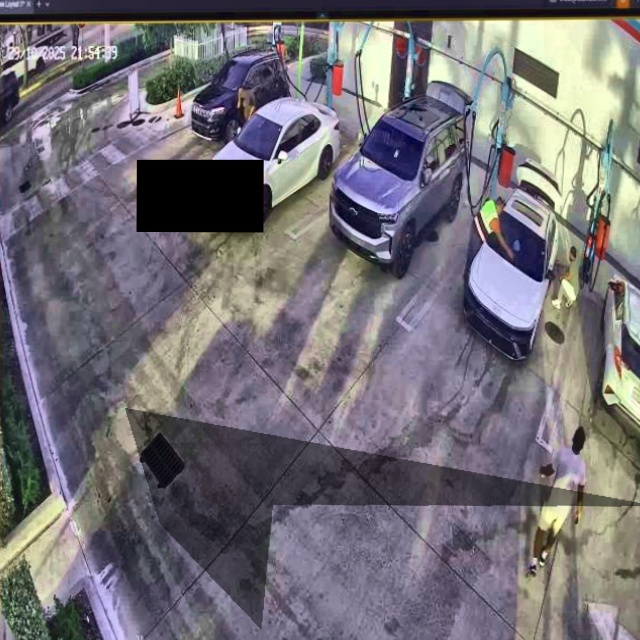Car: (332, 81, 469, 274), (200, 100, 337, 236), (468, 159, 560, 354)
